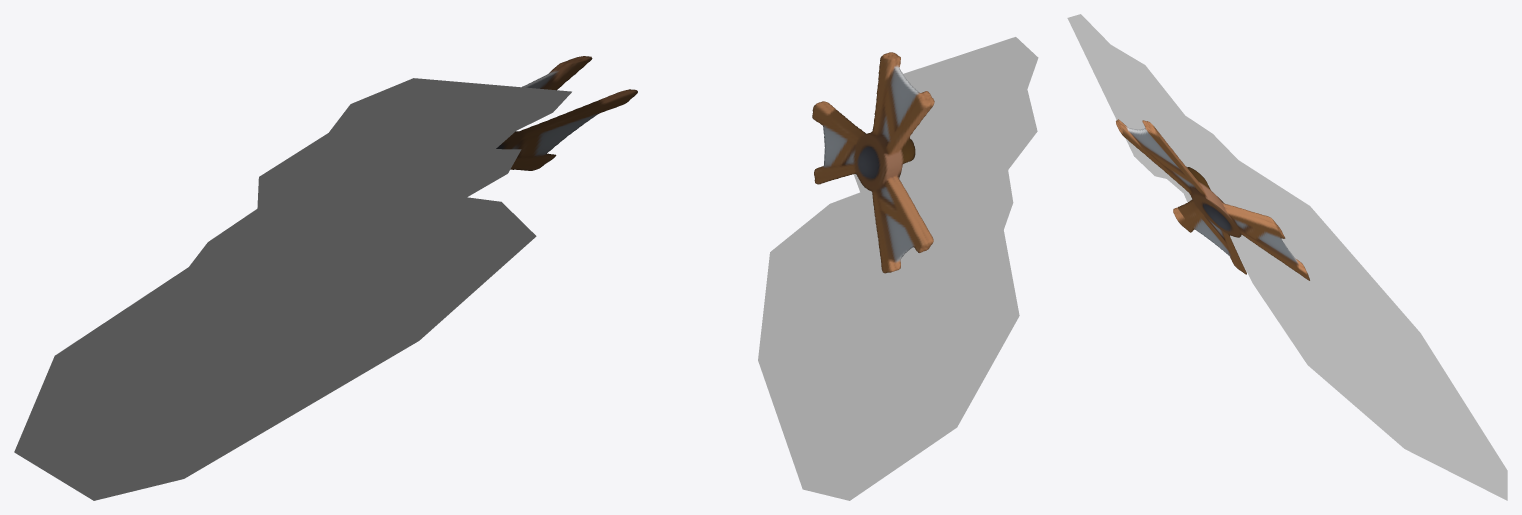
The model's file is zhucheng.fbx.
3 renders of one model, left to right at view 1: azimuth 30°, elevation 25°; view 2: azimuth 150°, elevation 25°; view 3: azimuth 270°, elevation 25°, orthographic. The views are drawn at different scales.
Parts seen in each view (by area): view 1: Plane001, Plane002; view 2: Plane001, Plane002; view 3: Plane001, Plane002.
Boxes of the visible parts, bbox=[...] form: Plane001: bbox=[14, 78, 571, 500]; Plane002: bbox=[496, 56, 637, 170]; Plane001: bbox=[758, 37, 1038, 500]; Plane002: bbox=[812, 52, 934, 273]; Plane001: bbox=[1067, 14, 1507, 500]; Plane002: bbox=[1116, 119, 1309, 280].
Size of the model in its own units: 1883 by 2098 by 1849.
